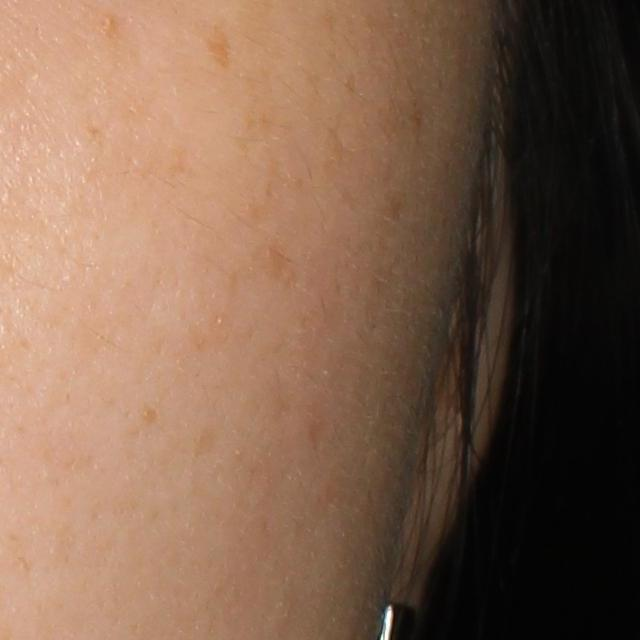melasma: (189, 15, 237, 73)
